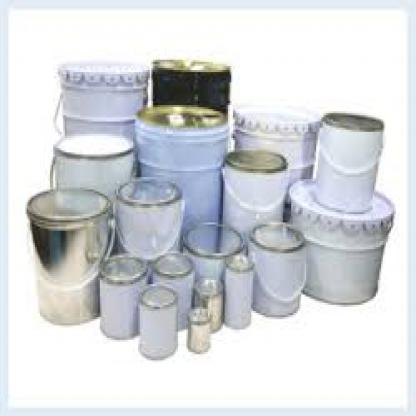METAL: (134, 105, 230, 245), (288, 177, 393, 303), (23, 188, 110, 324), (222, 151, 286, 296), (231, 105, 316, 192), (314, 111, 382, 214), (182, 218, 242, 332), (56, 62, 146, 136), (115, 175, 183, 257), (47, 132, 133, 196), (250, 223, 306, 317), (150, 60, 230, 113), (97, 255, 148, 338), (152, 254, 192, 330), (136, 282, 176, 356), (191, 280, 225, 328), (186, 311, 210, 352)
